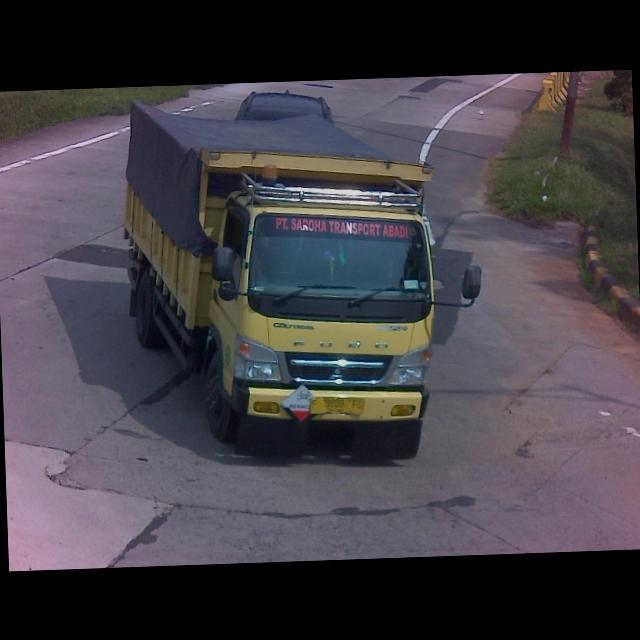plate: (306, 391, 366, 417)
